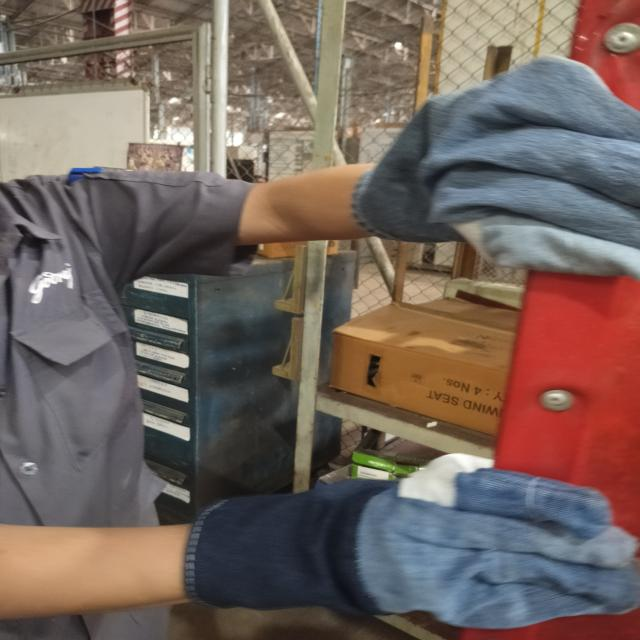Gloves-Detection: (207, 479, 640, 623), (353, 77, 640, 273)
